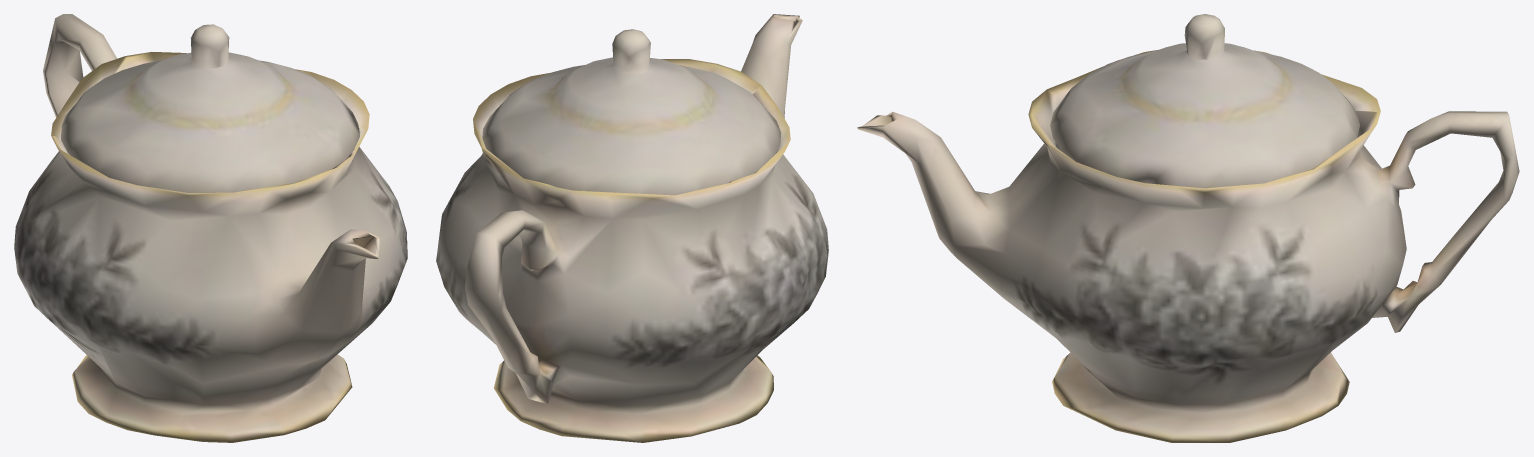
The model's file is cafe_teapot.glb.
3 renders of one model, left to right at view 1: azimuth 30°, elevation 25°; view 2: azimuth 150°, elevation 25°; view 3: azimuth 270°, elevation 25°, orthographic. The views are drawn at different scales.
Visible parts, largest first — view 1: tea_set_01_teapot_01, tea_set_01_teapot_01_lid; view 2: tea_set_01_teapot_01, tea_set_01_teapot_01_lid; view 3: tea_set_01_teapot_01, tea_set_01_teapot_01_lid.
Part boxes in pixels (x1,y1,x2,y2): tea_set_01_teapot_01: (14, 14, 407, 442); tea_set_01_teapot_01_lid: (61, 24, 359, 192); tea_set_01_teapot_01: (436, 14, 828, 442); tea_set_01_teapot_01_lid: (482, 29, 781, 195); tea_set_01_teapot_01: (857, 50, 1519, 442); tea_set_01_teapot_01_lid: (1050, 14, 1359, 188).
Bounding box in the file's own units: 0.1648 × 0.1637 × 0.2678.
1 material, 1 textured.
